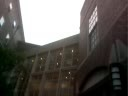window: (107, 41, 121, 66), (73, 53, 84, 78), (56, 59, 64, 76), (114, 88, 128, 96), (75, 91, 82, 96), (54, 93, 62, 96)
